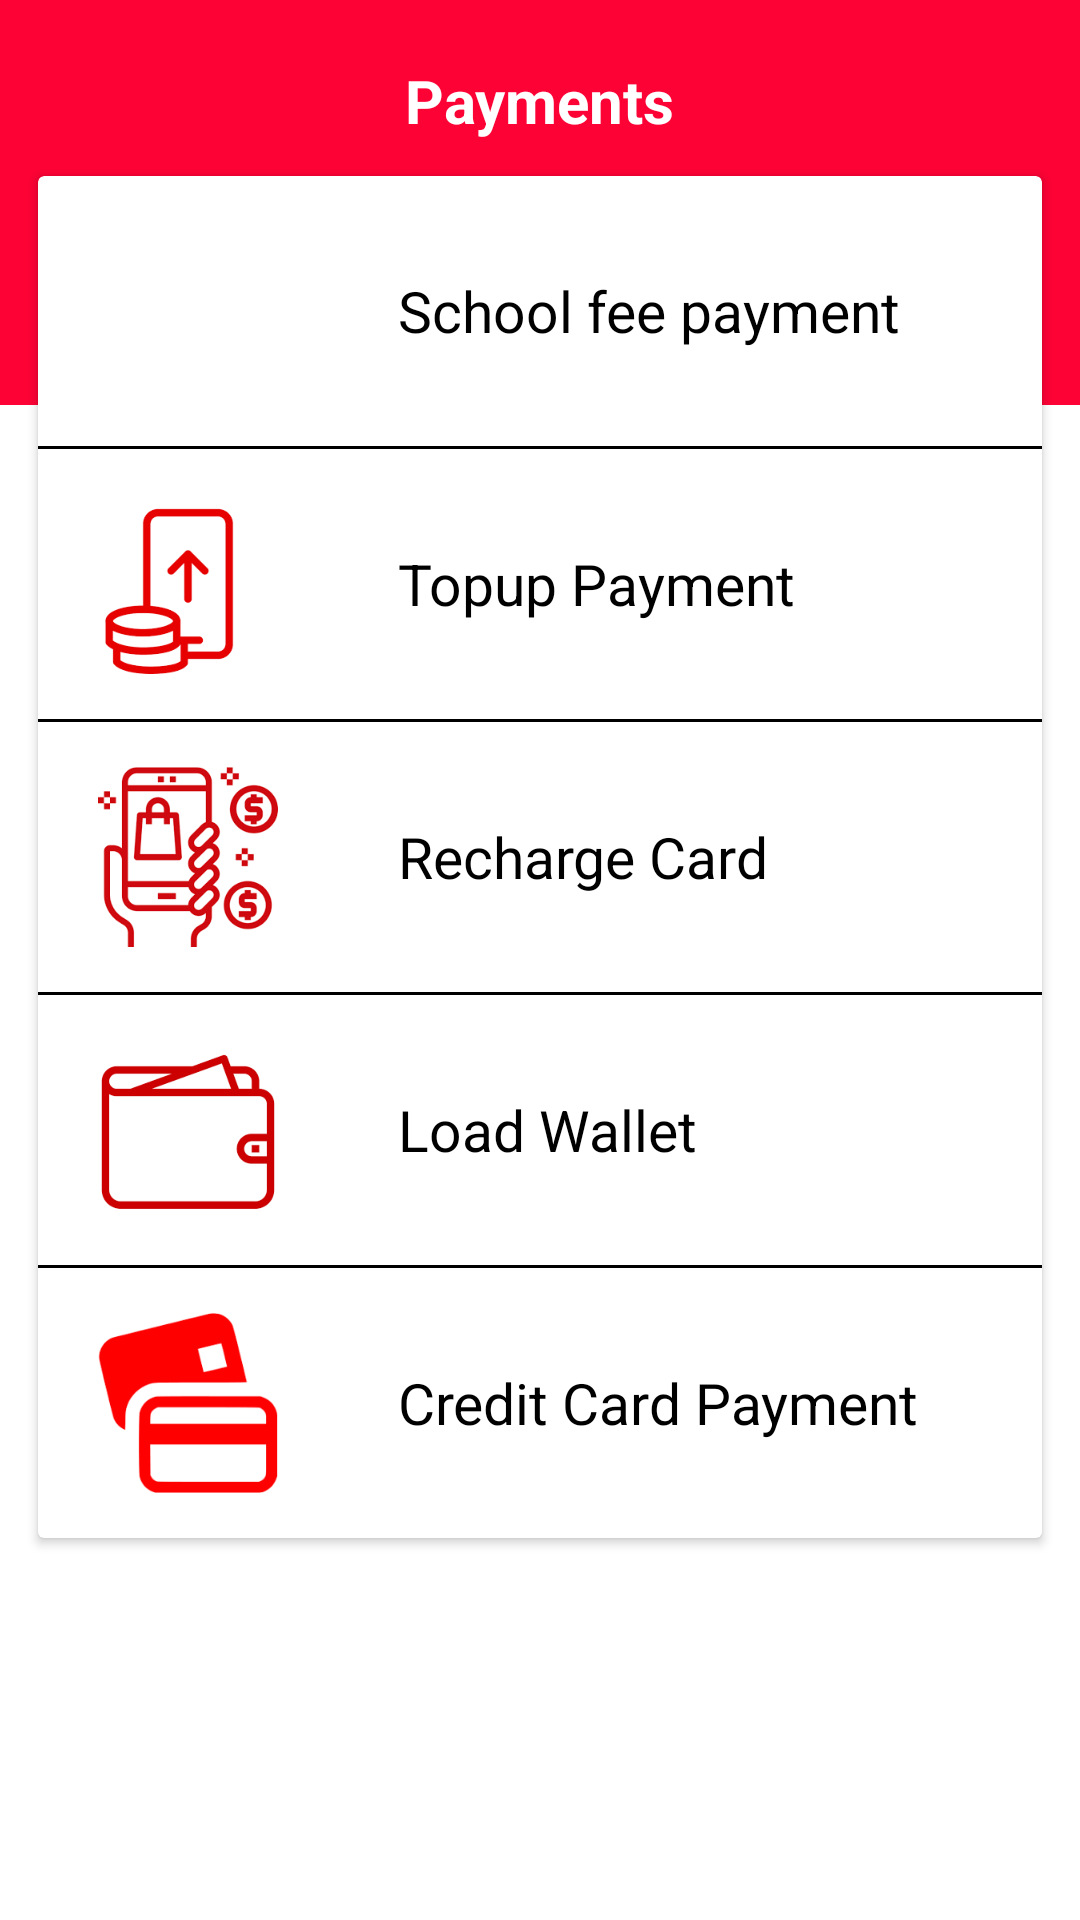

Where to tap for icons on this 1080px×1920px app screen, as (x,y):
waller: (188,1132)
